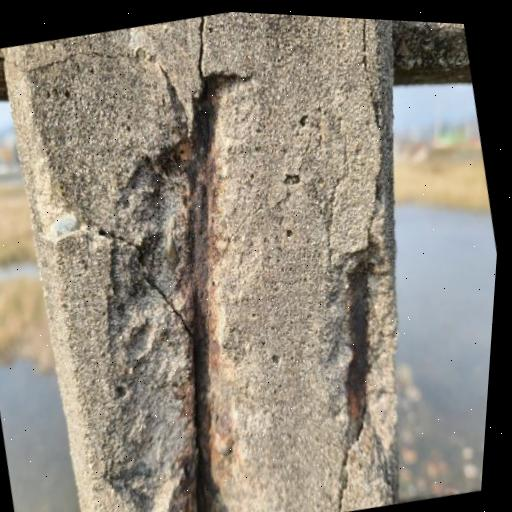exposed_rebar: (187, 87, 222, 512), (344, 264, 370, 435)
spalling: (95, 71, 238, 512), (344, 202, 397, 448)
